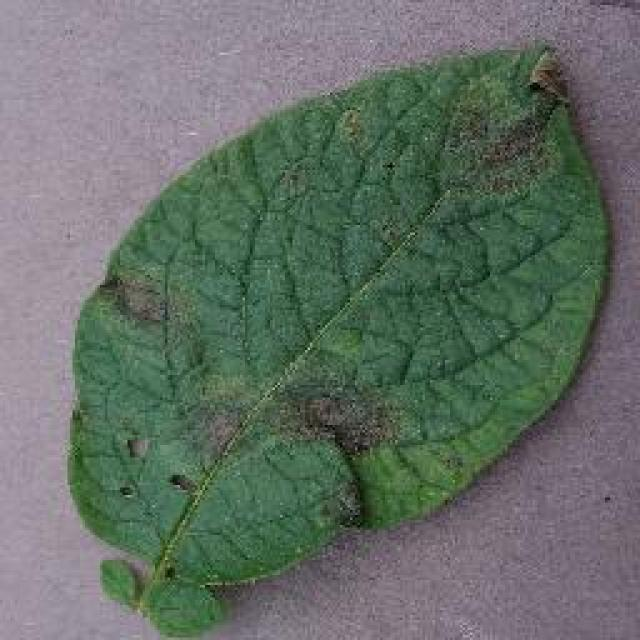late_blight: (60, 35, 615, 637)
